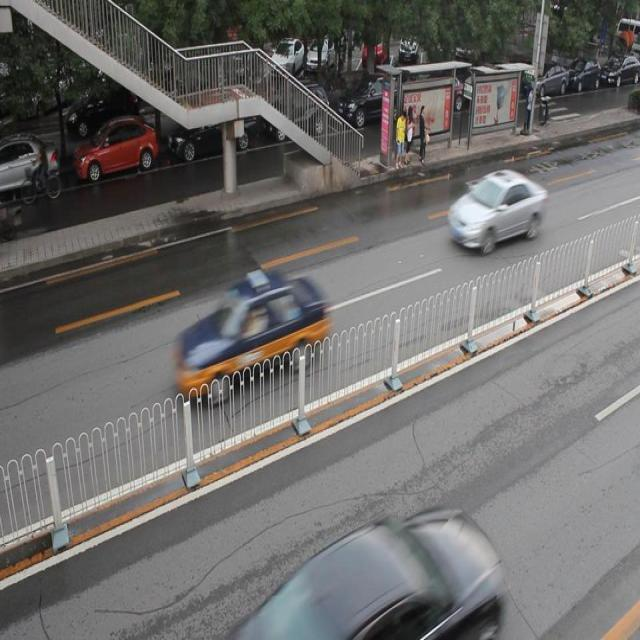car: (236, 509, 504, 640), (173, 267, 329, 399), (447, 166, 546, 251), (168, 107, 258, 161), (74, 121, 158, 178), (335, 71, 408, 132), (263, 87, 330, 142), (1, 135, 59, 196)
